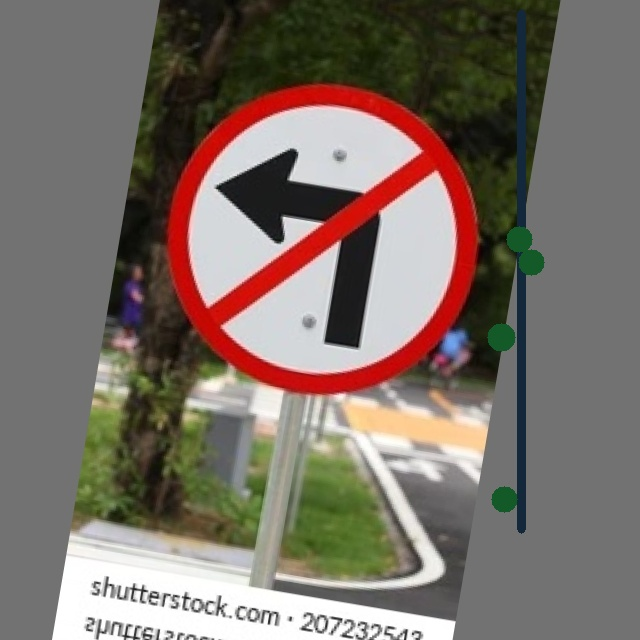Left_Turn_Prohibited: (142, 59, 506, 423)
